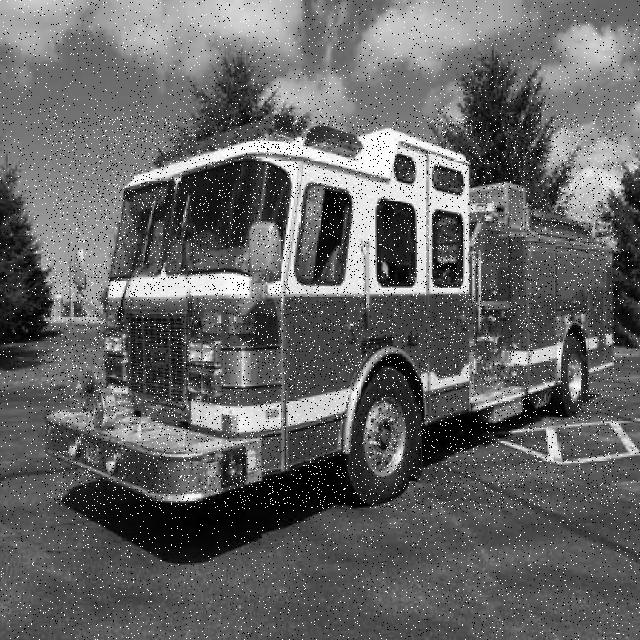Fire Truck: (45, 116, 619, 509)
